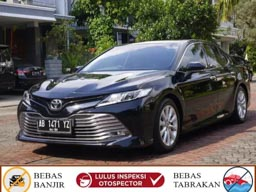plat: (38, 118, 72, 128)
